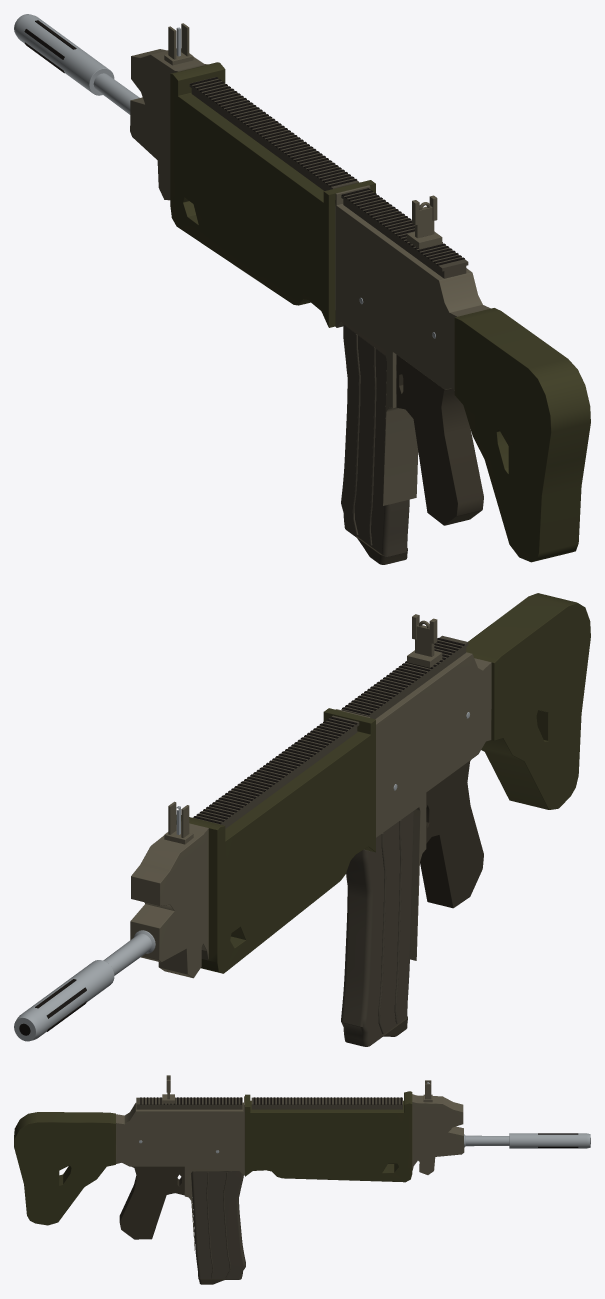
Rendered from ar-lmao.glb.
3 renders of one model, top to bottom at view 1: azimuth 30°, elevation 25°; view 2: azimuth 150°, elevation 25°; view 3: azimuth 270°, elevation 25°, orthographic. The views are drawn at different scales.
Parts seen in each view (by area): view 1: SW_Body, SW_Mag, SW_Hider, SW_IronRear, SW_IronFront; view 2: SW_Body, SW_Mag, SW_Hider, SW_IronRear, SW_IronFront; view 3: SW_Body, SW_Mag, SW_Hider.
Boxes of the visible parts, bbox=[...] form: SW_Body: bbox=[93, 48, 590, 562]; SW_Mag: bbox=[341, 324, 409, 564]; SW_Hider: bbox=[14, 14, 114, 95]; SW_IronRear: bbox=[407, 195, 442, 249]; SW_IronFront: bbox=[164, 23, 193, 65]; SW_Body: bbox=[103, 593, 590, 978]; SW_Mag: bbox=[341, 811, 413, 1046]; SW_Hider: bbox=[14, 960, 114, 1041]; SW_IronRear: bbox=[407, 614, 442, 667]; SW_IronFront: bbox=[164, 801, 193, 844]; SW_Body: bbox=[14, 1091, 509, 1250]; SW_Mag: bbox=[191, 1171, 245, 1284]; SW_Hider: bbox=[509, 1133, 590, 1148].
Size of the model in its own units: 0.045 by 0.3493 by 0.8996.
